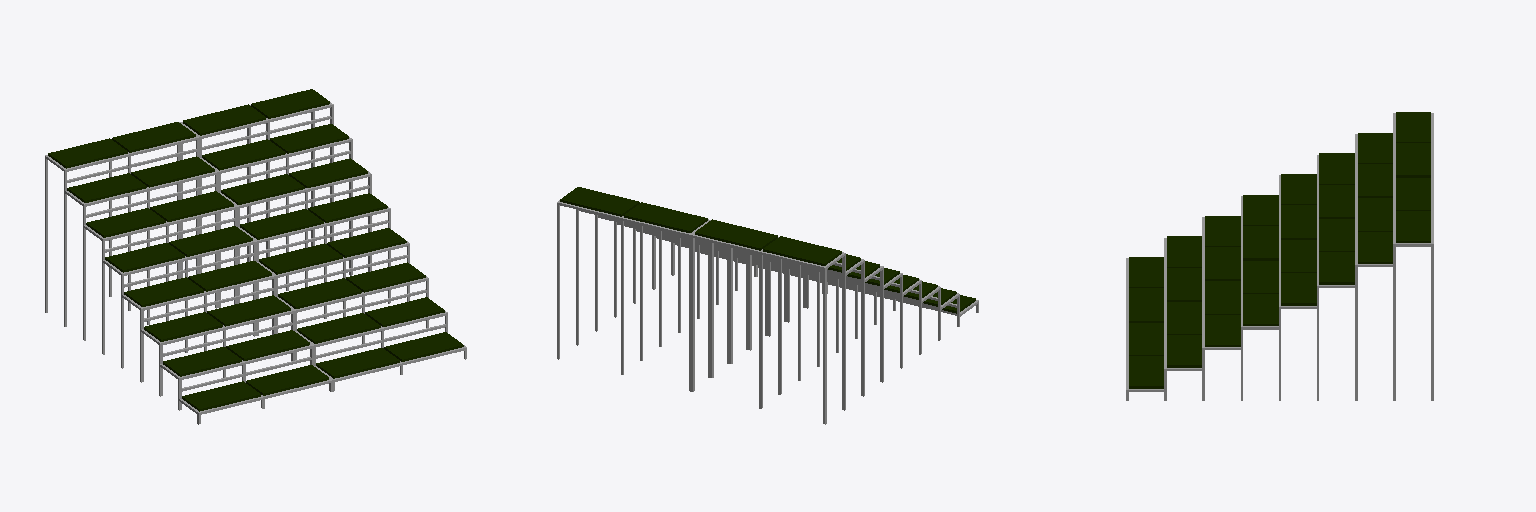
3 renders of one model, left to right at view 1: azimuth 30°, elevation 25°; view 2: azimuth 150°, elevation 25°; view 3: azimuth 270°, elevation 25°, orthographic.
Parts seen in each view (by area): view 1: aquibancada; view 2: aquibancada; view 3: aquibancada.
Boxes of the visible parts, box(x1,y1,x2,y2) form: aquibancada: box(45, 89, 466, 424); aquibancada: box(557, 187, 978, 424); aquibancada: box(1126, 112, 1433, 400).
Size of the model in its own units: 122 by 69 by 121.
1 materials, 1 textured.